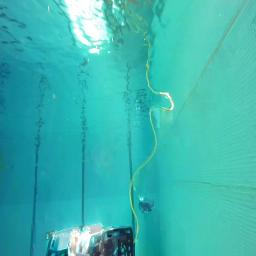Full: (138, 196, 155, 214)
front: (44, 222, 136, 256)
